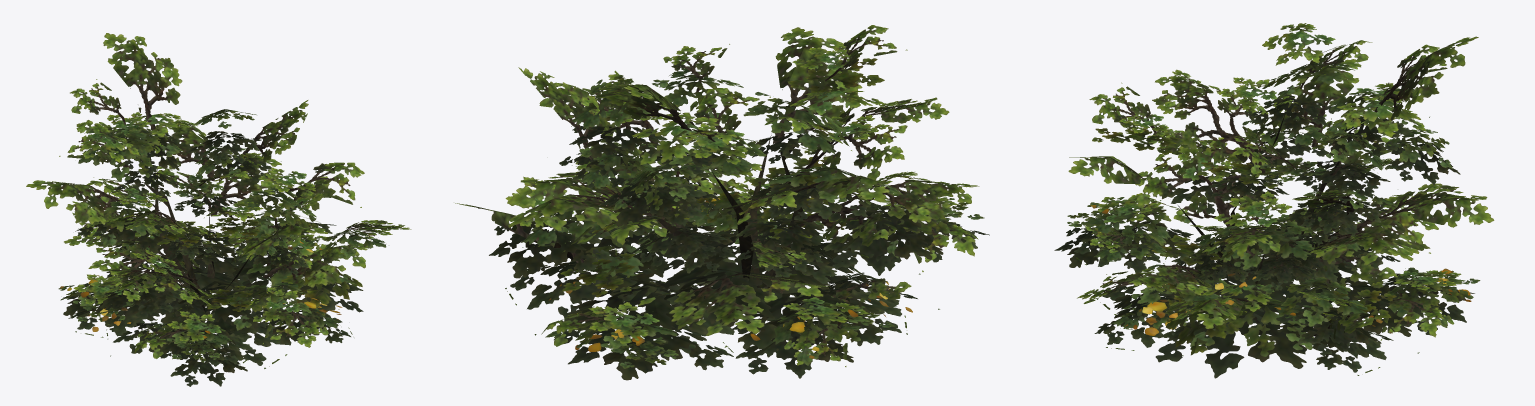
Rendered from c_yamen_zhiwu01_zw.FBX.
3 renders of one model, left to right at view 1: azimuth 30°, elevation 25°; view 2: azimuth 150°, elevation 25°; view 3: azimuth 270°, elevation 25°, orthographic. The views are drawn at different scales.
Parts seen in each view (by area): view 1: c_yamen_zhiwu01_zw_01A; view 2: c_yamen_zhiwu01_zw_01A; view 3: c_yamen_zhiwu01_zw_01A.
Boxes of the visible parts, x1,y1,x2,y2 form: c_yamen_zhiwu01_zw_01A: (26, 33, 411, 386); c_yamen_zhiwu01_zw_01A: (455, 25, 989, 380); c_yamen_zhiwu01_zw_01A: (1054, 23, 1494, 378).
Size of the model in its own units: 104 by 69.44 by 106.
